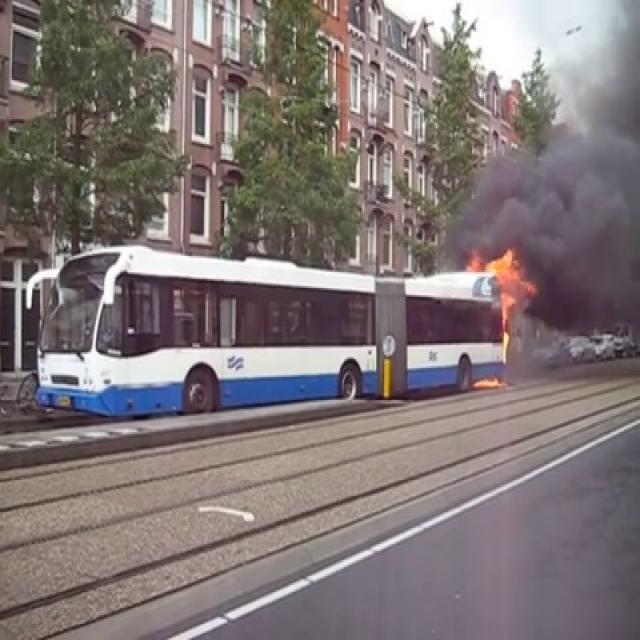Fire: (480, 248, 535, 360)
Smoke: (456, 0, 640, 318)
